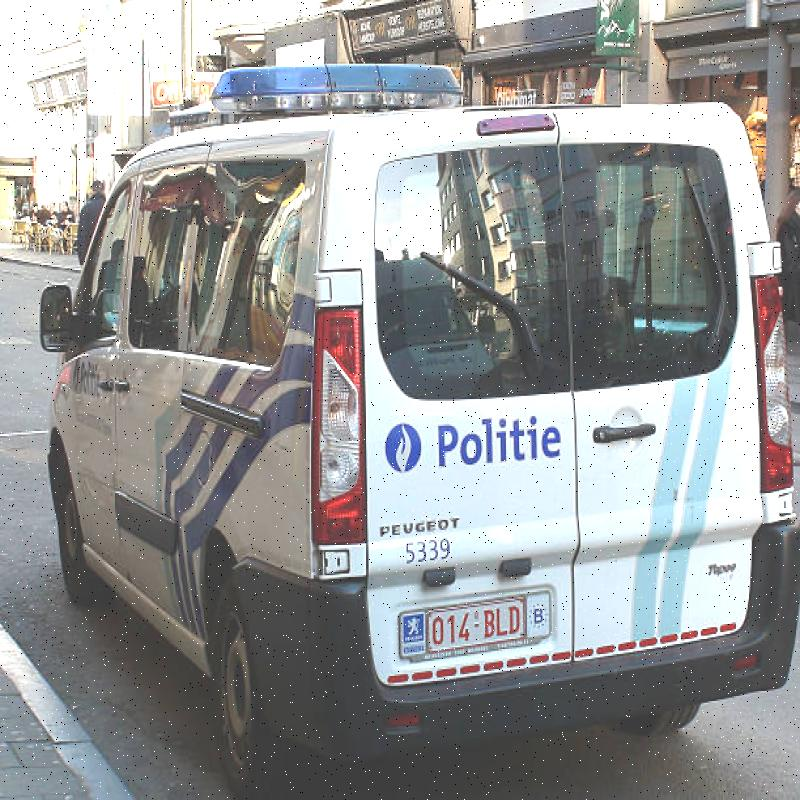AmbulanceSiren: (192, 27, 502, 112)
